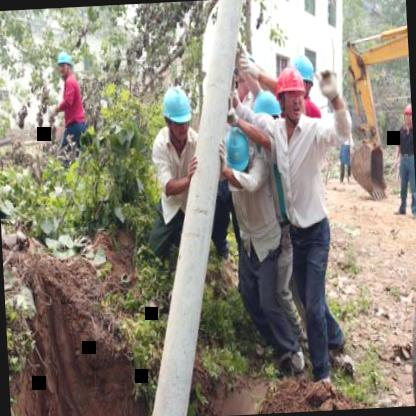helmet: (159, 82, 195, 145), (276, 58, 309, 122), (219, 126, 256, 180), (295, 54, 318, 99), (54, 44, 74, 76), (399, 100, 412, 127)
